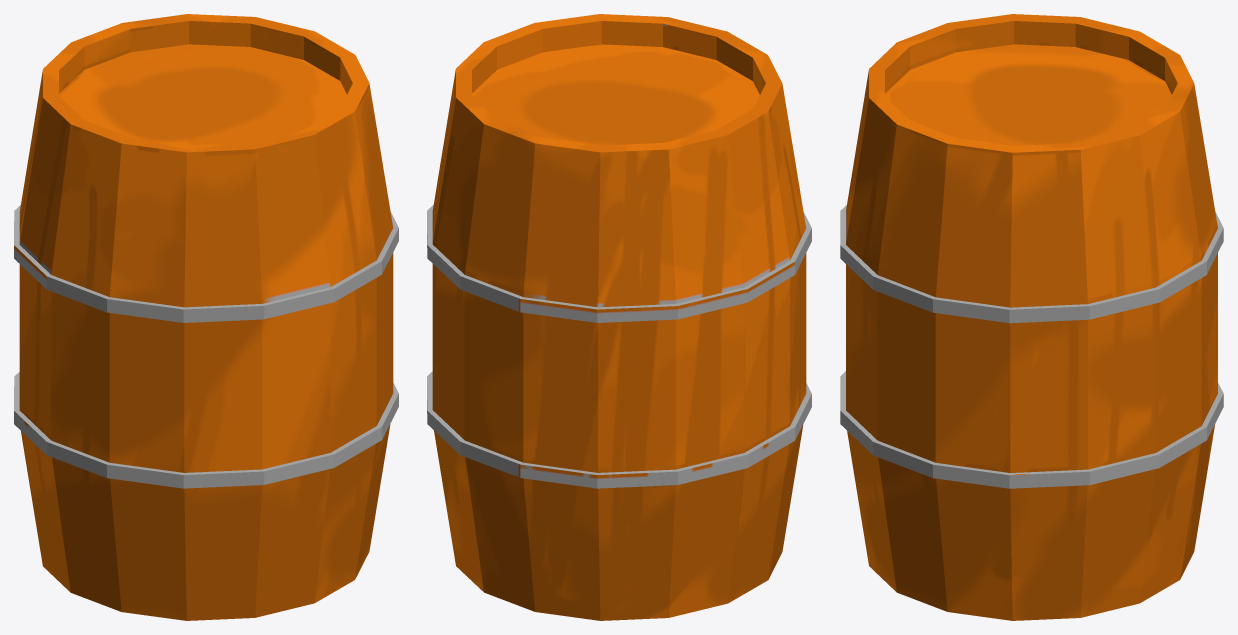
File: bochkafbx.fbx
3 views of the same model, side by side, from view 1: azimuth 30°, elevation 25°; view 2: azimuth 150°, elevation 25°; view 3: azimuth 270°, elevation 25° (orthographic).
Parts seen in each view (by area): view 1: Cylinder; view 2: Cylinder; view 3: Cylinder.
Boxes of the visible parts, left/top/right/bottom form: Cylinder: left=14, top=14, right=398, bottom=620; Cylinder: left=427, top=14, right=811, bottom=620; Cylinder: left=840, top=14, right=1223, bottom=620.
Bounding box in the file's own units: 134 × 179 × 133.
Materials: 1 (1 with a texture image).
